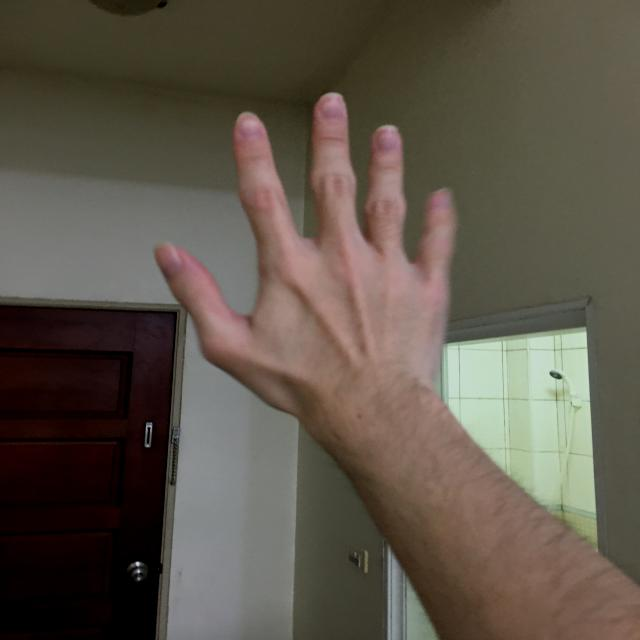no_glove: (138, 78, 474, 447)
